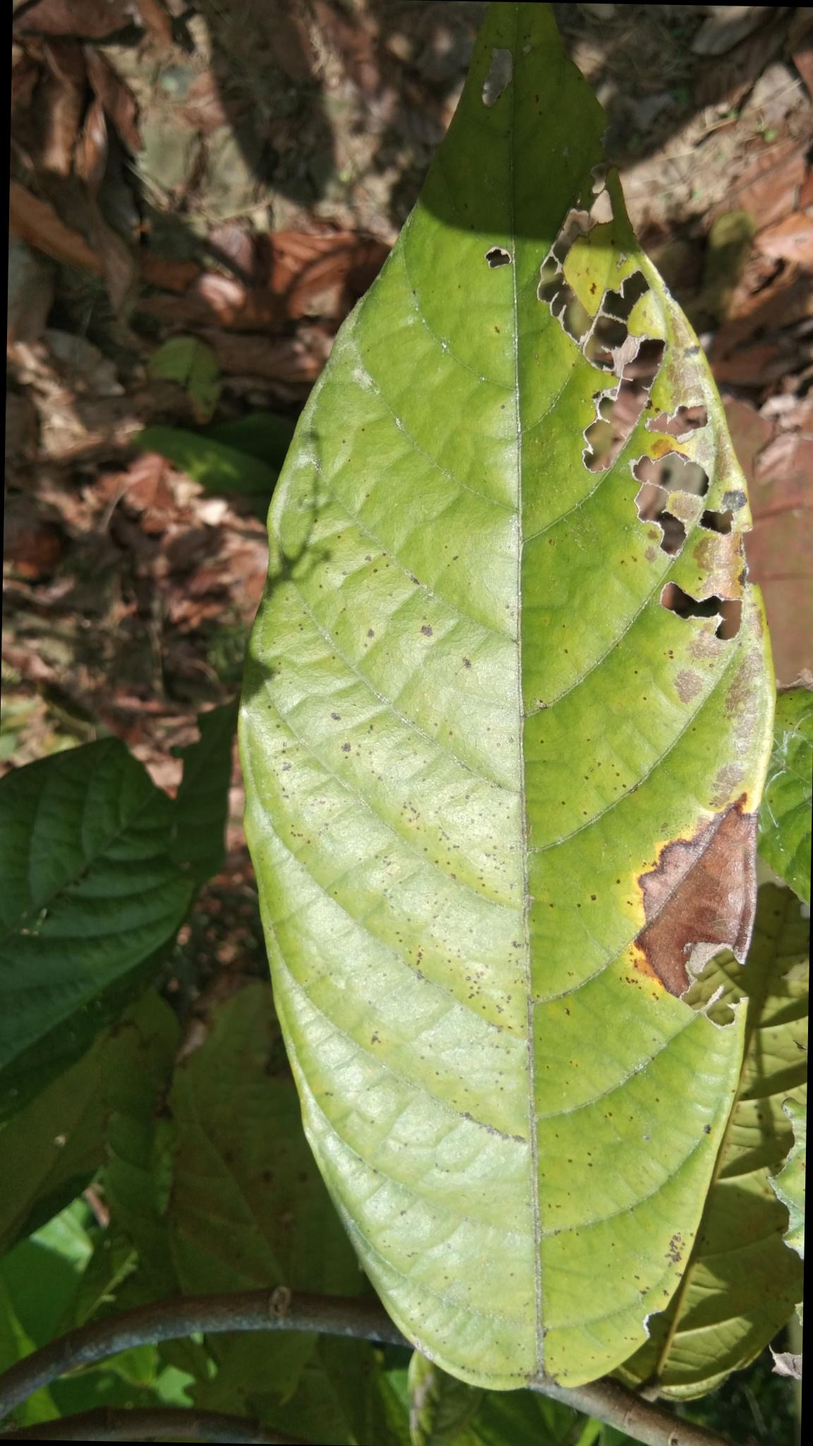Fosforo: (243, 2, 771, 1393)
